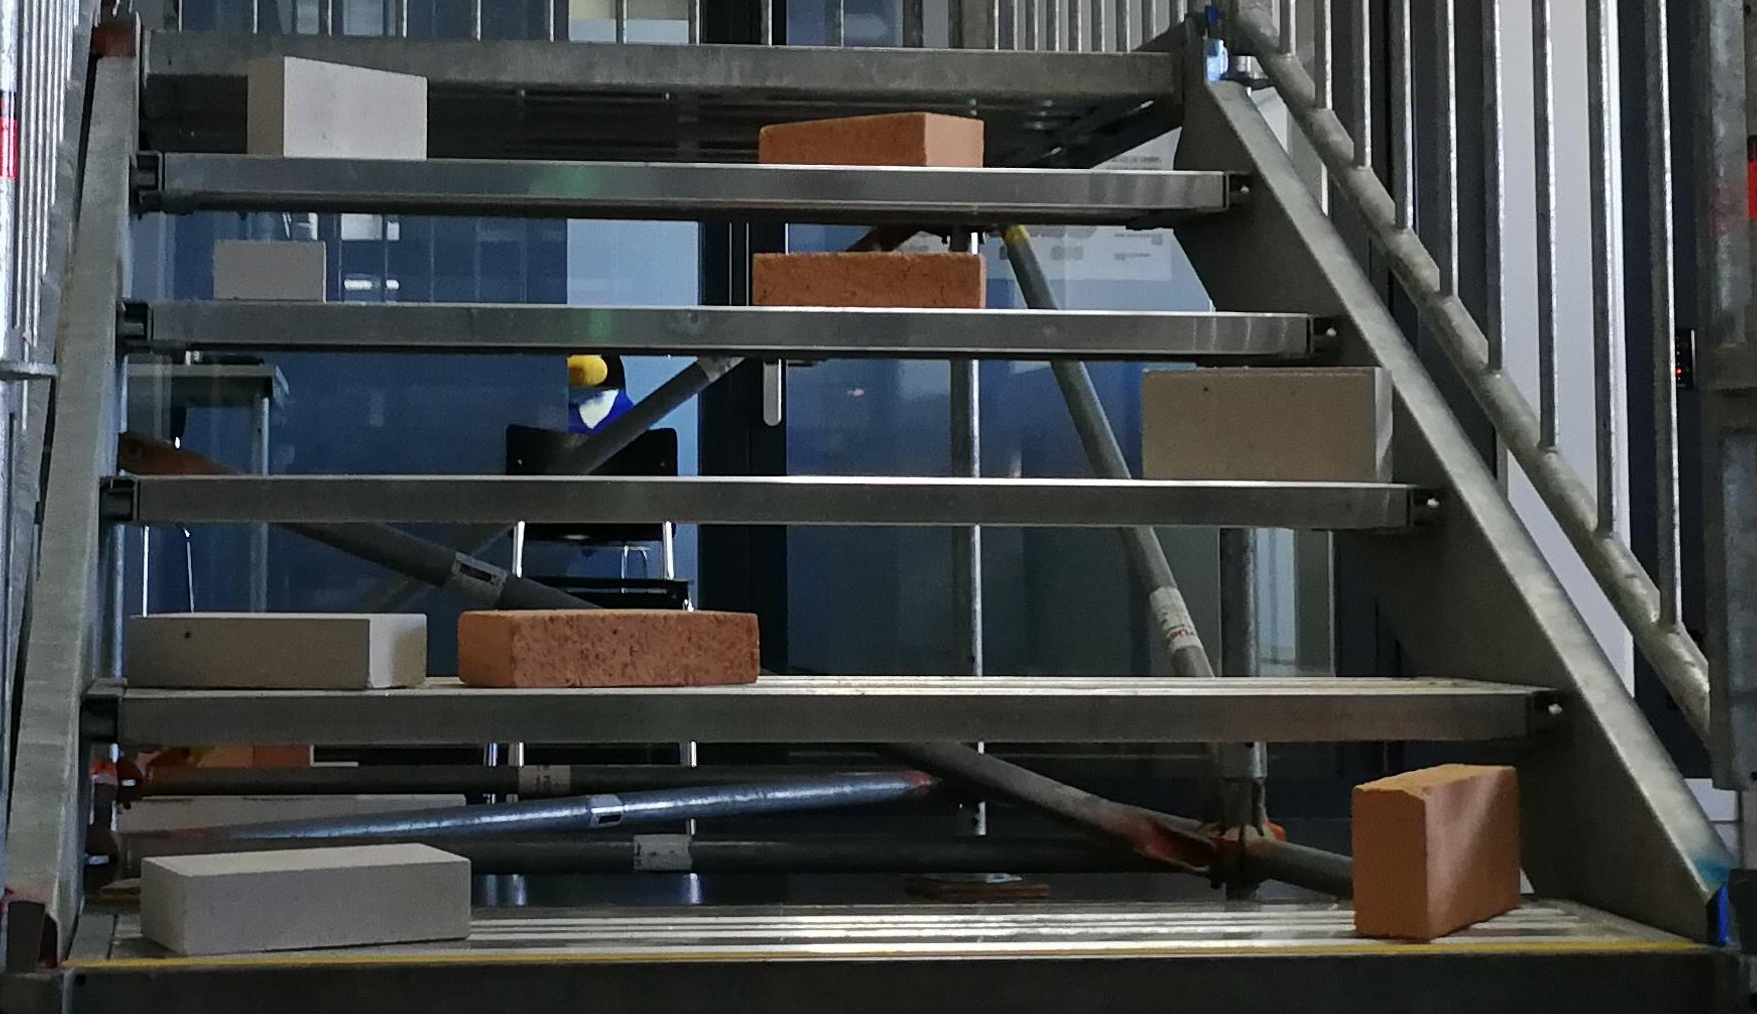brick: (144, 844, 469, 952), (1355, 760, 1522, 942), (1139, 367, 1393, 480), (455, 607, 754, 684), (125, 614, 426, 687), (250, 56, 426, 156), (754, 249, 983, 304), (763, 112, 980, 165), (215, 241, 323, 301)
edge: (72, 951, 1714, 1009), (87, 684, 1566, 745), (121, 299, 1343, 360), (113, 477, 1442, 526), (138, 153, 1259, 208)
